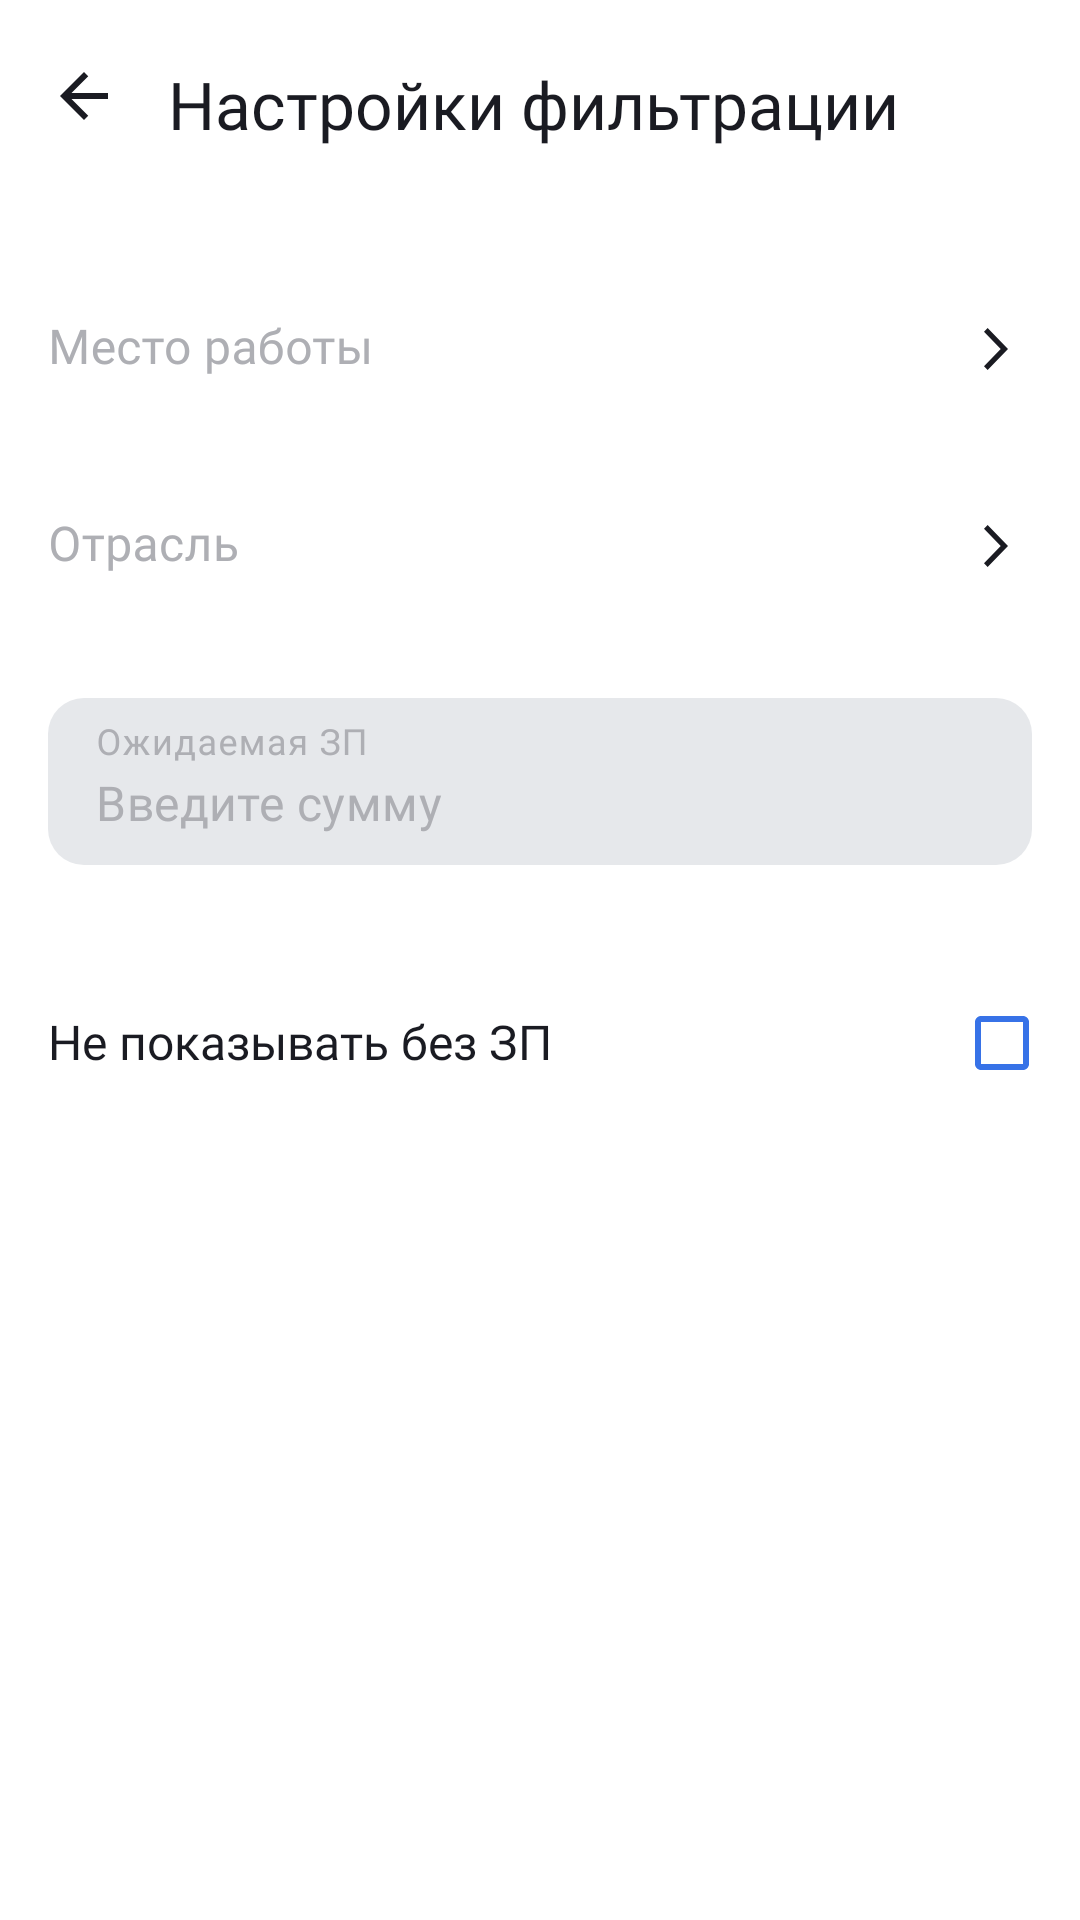

Named icons in this screenshot (1080px x 1920px) and their centers, [x,y]:
arrow forward: [996,349], [996,546]
back arrow: [84,96]
